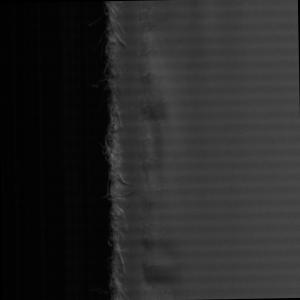Damage: (87, 1, 169, 300)
